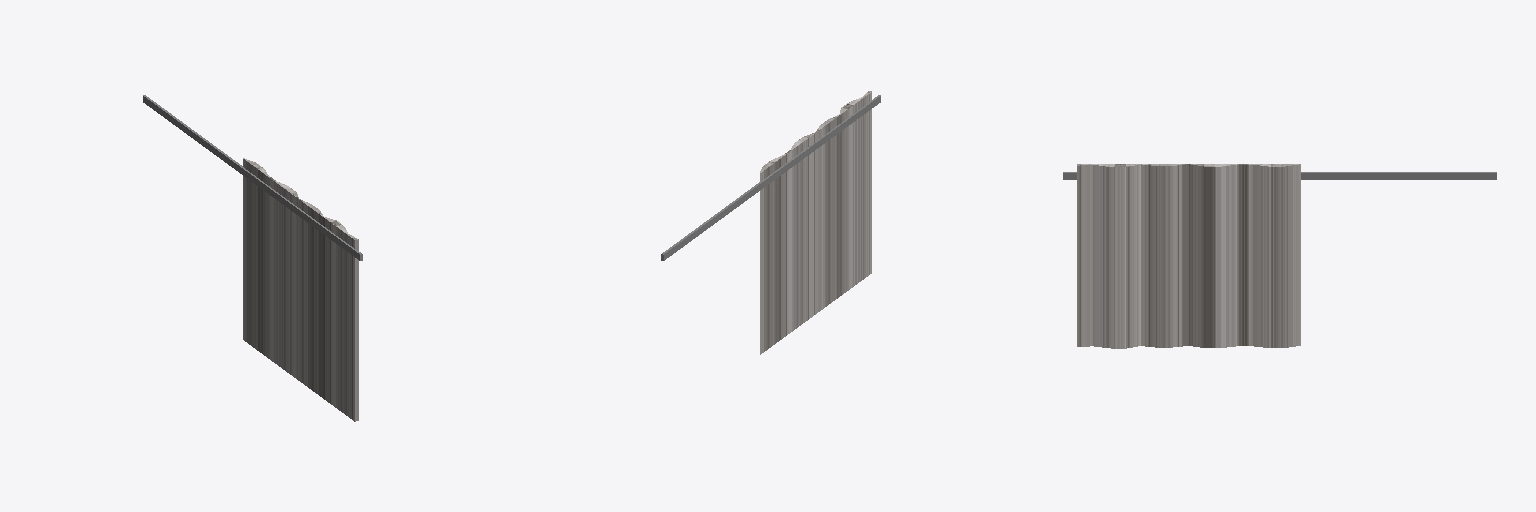
3 views of the same model, side by side, from view 1: azimuth 30°, elevation 25°; view 2: azimuth 150°, elevation 25°; view 3: azimuth 270°, elevation 25° (orthographic).
Visible parts, largest first — view 1: Box034, Box035; view 2: Box034, Box035; view 3: Box034, Box035.
Boxes of the visible parts, box(x1,y1,x2,y2) form: Box034: box(243, 158, 358, 421); Box035: box(143, 95, 362, 260); Box034: box(760, 91, 871, 354); Box035: box(661, 95, 880, 260); Box034: box(1077, 164, 1300, 348); Box035: box(1063, 172, 1496, 179).
Bounding box in the file's own units: 1.71 × 33.6 × 72.89.
Materials: 2 (1 with a texture image).